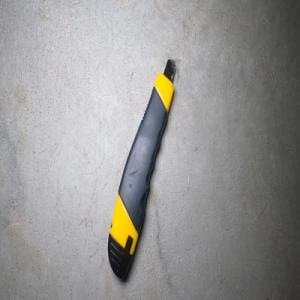Cutter: (107, 59, 176, 277)
